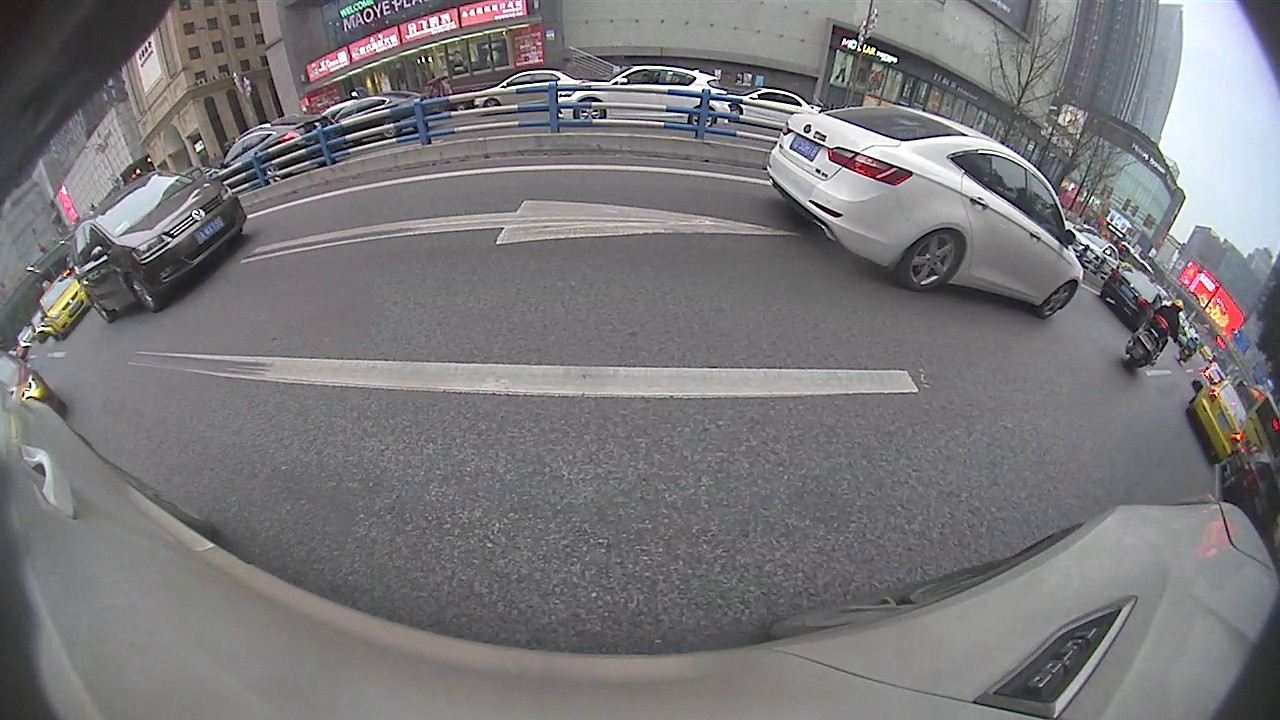car: (764, 103, 1086, 322), (64, 164, 249, 325), (556, 61, 733, 130), (213, 112, 344, 193), (1184, 378, 1252, 467), (1098, 263, 1166, 335)
front: (1038, 279, 1080, 320), (127, 274, 161, 312), (576, 99, 607, 124)
rear: (897, 227, 964, 293)
rider: (1123, 296, 1189, 375)
